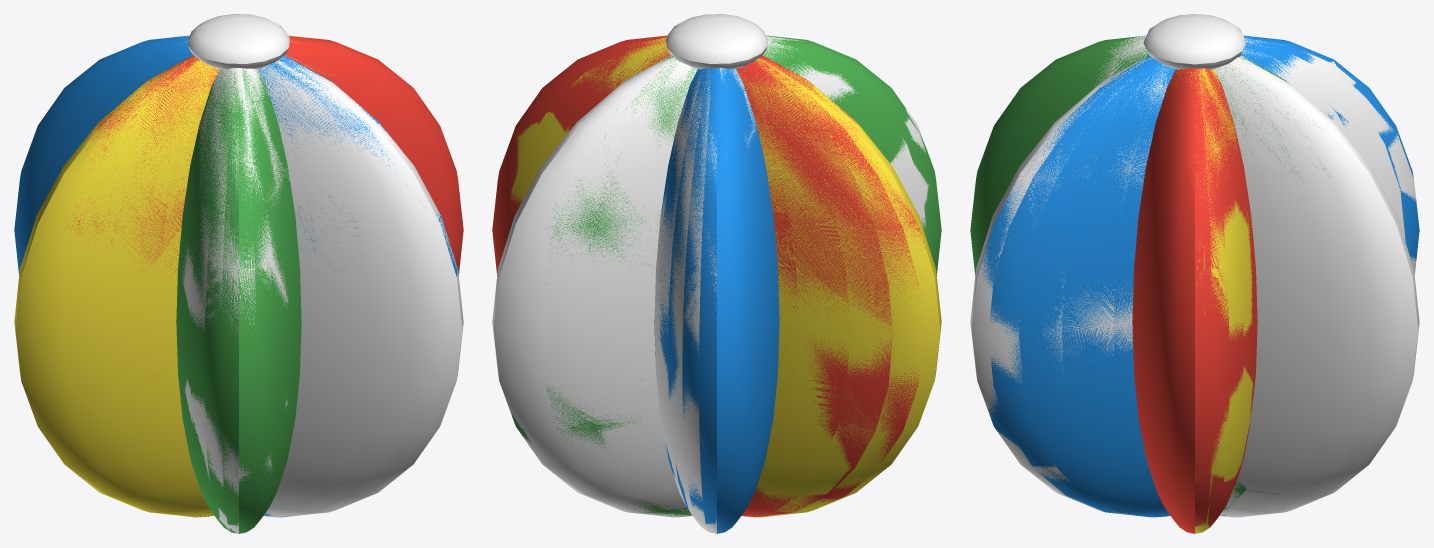
Rendered from journey_beachball.glb.
3 views of the same model, side by side, from view 1: azimuth 30°, elevation 25°; view 2: azimuth 150°, elevation 25°; view 3: azimuth 270°, elevation 25° (orthographic).
Visible parts, largest first — view 1: Ball_body; view 2: Ball_body; view 3: Ball_body.
Part boxes in pixels (box(x1,y1,x2,y2)): Ball_body: box(14, 14, 463, 533); Ball_body: box(492, 14, 941, 533); Ball_body: box(970, 14, 1419, 533).
Size of the model in its own units: 1 by 1.04 by 0.8715.
